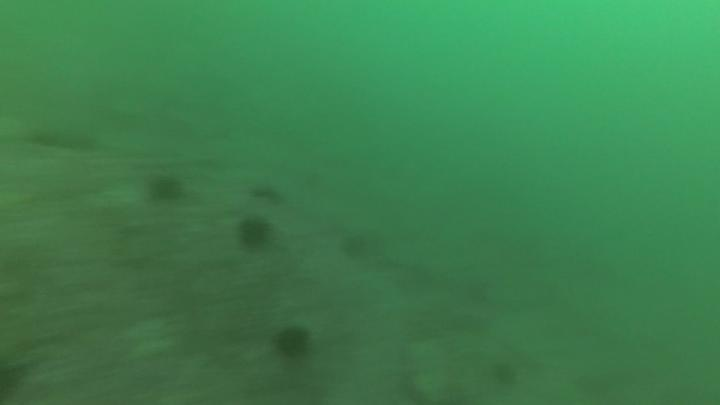echinus: (271, 322, 314, 362), (234, 213, 274, 253), (146, 171, 187, 206), (337, 230, 372, 263), (247, 180, 286, 207), (489, 358, 521, 388)
